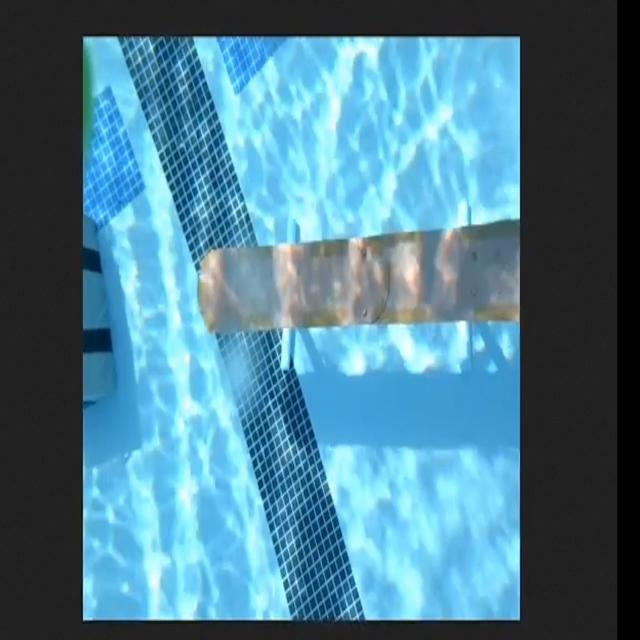Path: (197, 214, 521, 334)
